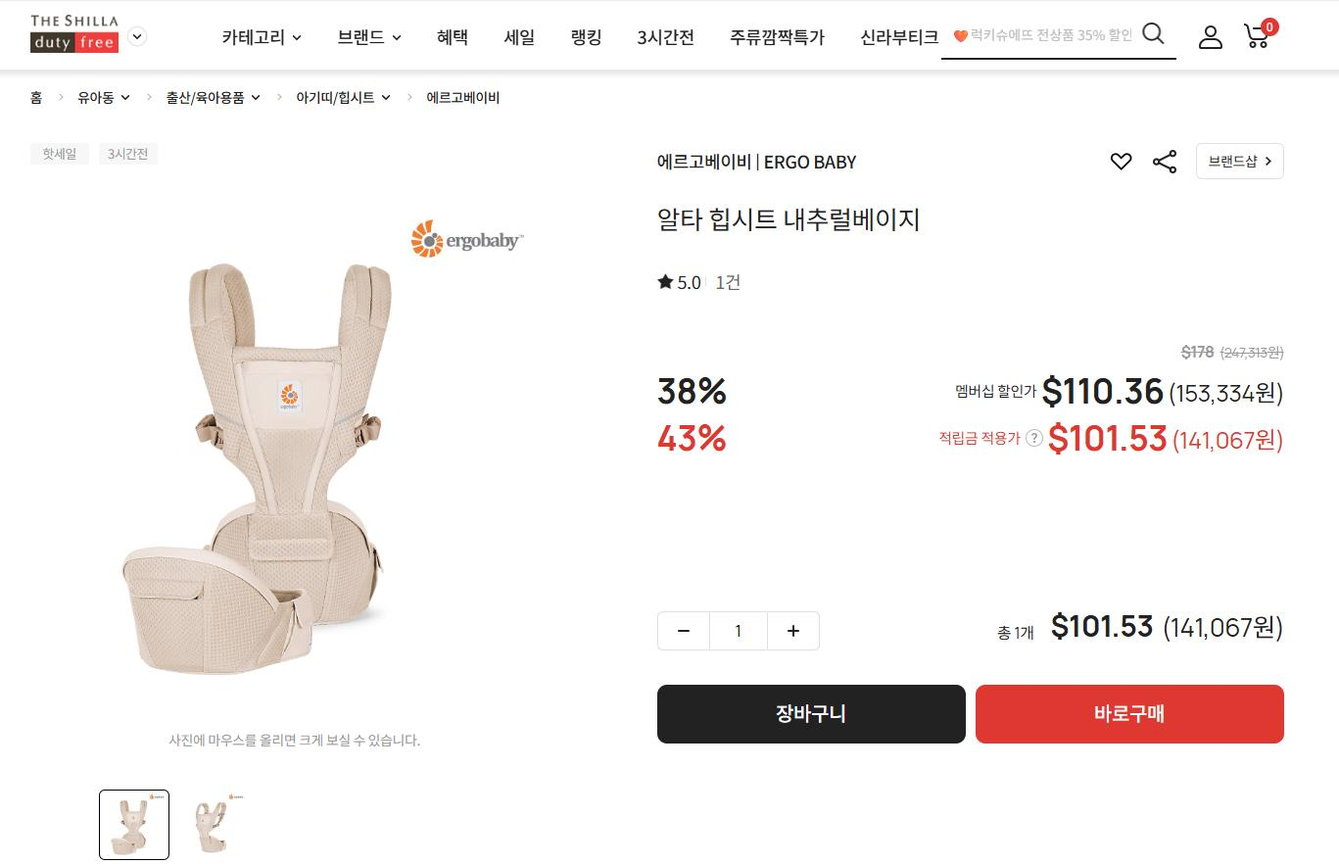button: (655, 683, 967, 747), (974, 684, 1287, 744), (649, 607, 826, 655), (1193, 139, 1287, 184), (724, 21, 831, 60), (853, 20, 941, 57), (634, 18, 701, 60), (1238, 16, 1285, 58), (428, 20, 478, 57), (497, 16, 541, 57), (565, 21, 611, 59), (1190, 18, 1231, 57), (1104, 144, 1141, 185), (1149, 143, 1185, 185)
checkbox: (22, 5, 157, 60), (212, 20, 312, 57), (328, 18, 403, 57)
input_field: (946, 14, 1179, 65)
